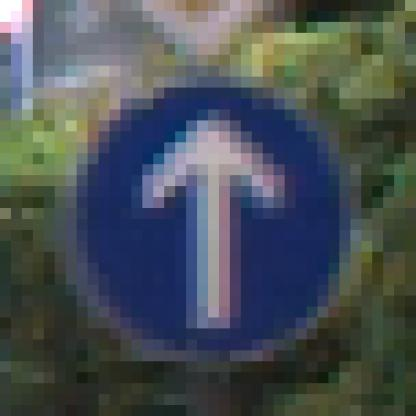AheadOnly: (56, 56, 351, 351)
